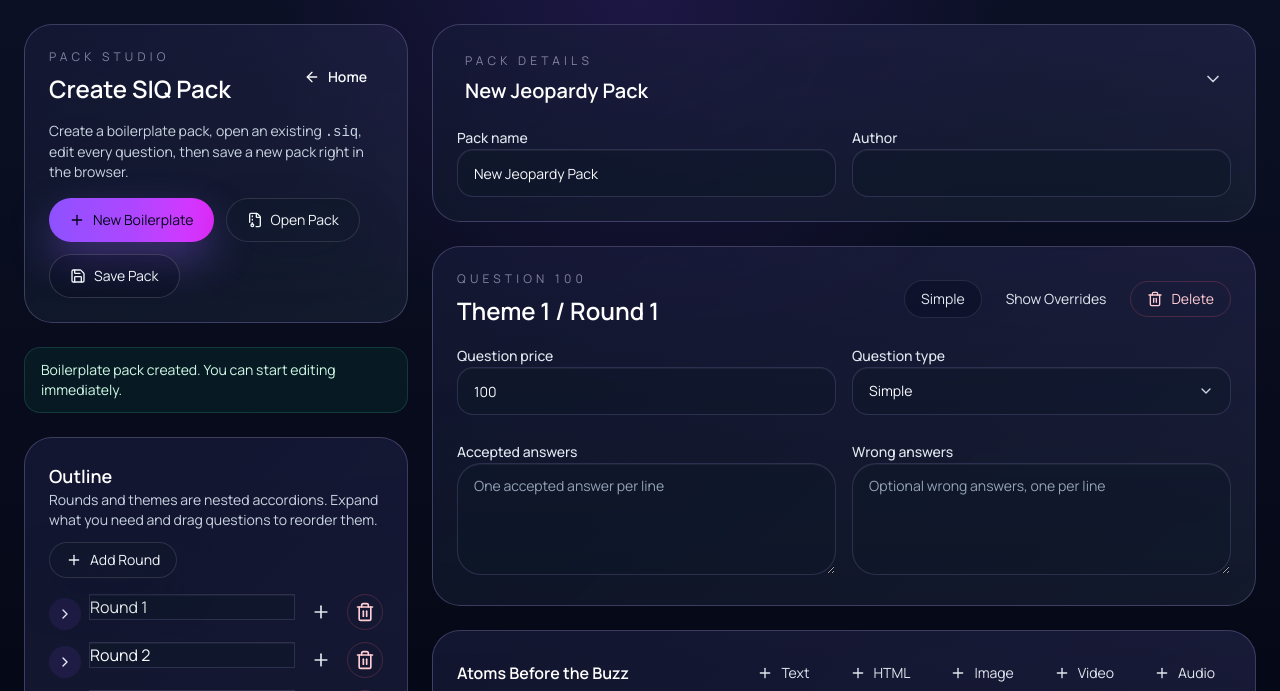
Test: CreatePackEditor › keeps overrides collapsed when empty and lets them be opened manually
Expected: the field labelled "Answer duration override" is not shown
Click the button "Show Overrides" at (1056, 299), box x1=990 y1=281 x2=1122 y2=317
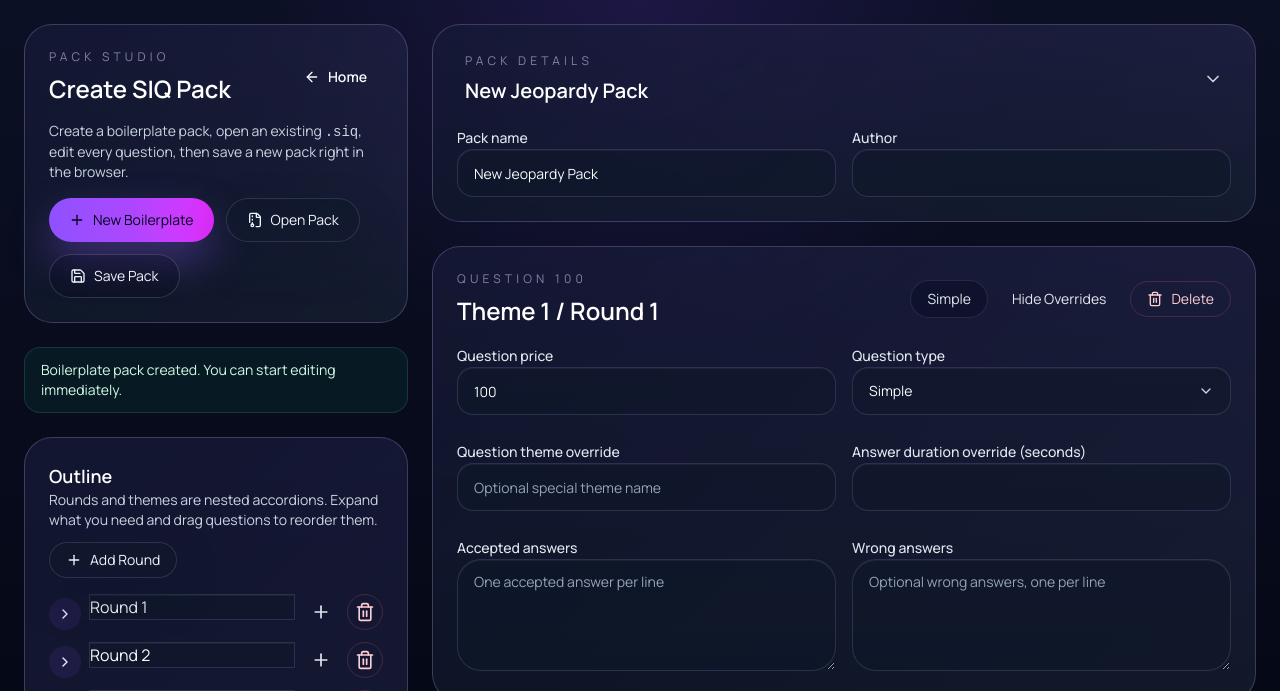
Now the field named "Question theme override input" is shown, box x1=457 y1=463 x2=836 y2=511
Now the number field named "Answer duration override" is shown, box x1=852 y1=463 x2=1231 y2=511
